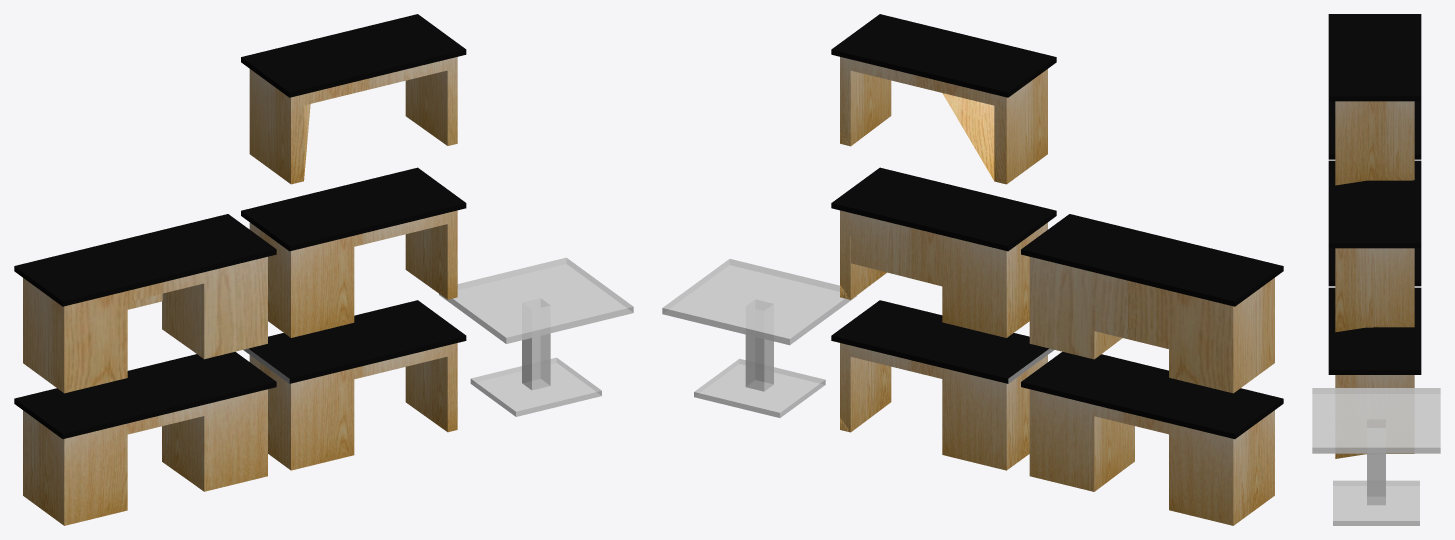
The model's file is desk 1.fbx.
3 renders of one model, left to right at view 1: azimuth 30°, elevation 25°; view 2: azimuth 150°, elevation 25°; view 3: azimuth 270°, elevation 25°, orthographic. The views are drawn at different scales.
Visible parts, largest first — view 1: pCube3, pCube1, pCube4, pCube2, pCube6, pCube5; view 2: pCube3, pCube1, pCube4, pCube6, pCube2, pCube5; view 3: pCube6, pCube4, pCube5, pCube2, pCube3, pCube1.
Part boxes in pixels (<box>): pCube3: <box>14,214,276,393</box>; pCube1: <box>14,351,276,525</box>; pCube4: <box>241,167,466,337</box>; pCube2: <box>243,300,466,470</box>; pCube6: <box>241,14,466,184</box>; pCube5: <box>439,257,633,416</box>; pCube3: <box>1021,214,1283,393</box>; pCube1: <box>1021,351,1283,525</box>; pCube4: <box>831,167,1056,337</box>; pCube6: <box>831,14,1056,184</box>; pCube2: <box>831,300,1054,470</box>; pCube5: <box>662,259,856,417</box>; pCube6: <box>1328,14,1421,185</box>; pCube4: <box>1328,160,1421,332</box>; pCube5: <box>1312,388,1440,525</box>; pCube2: <box>1328,287,1421,458</box>; pCube3: <box>1328,101,1421,159</box>; pCube1: <box>1328,248,1421,286</box>.
Size of the model in its own units: 8.08 by 5.24 by 1.67.
